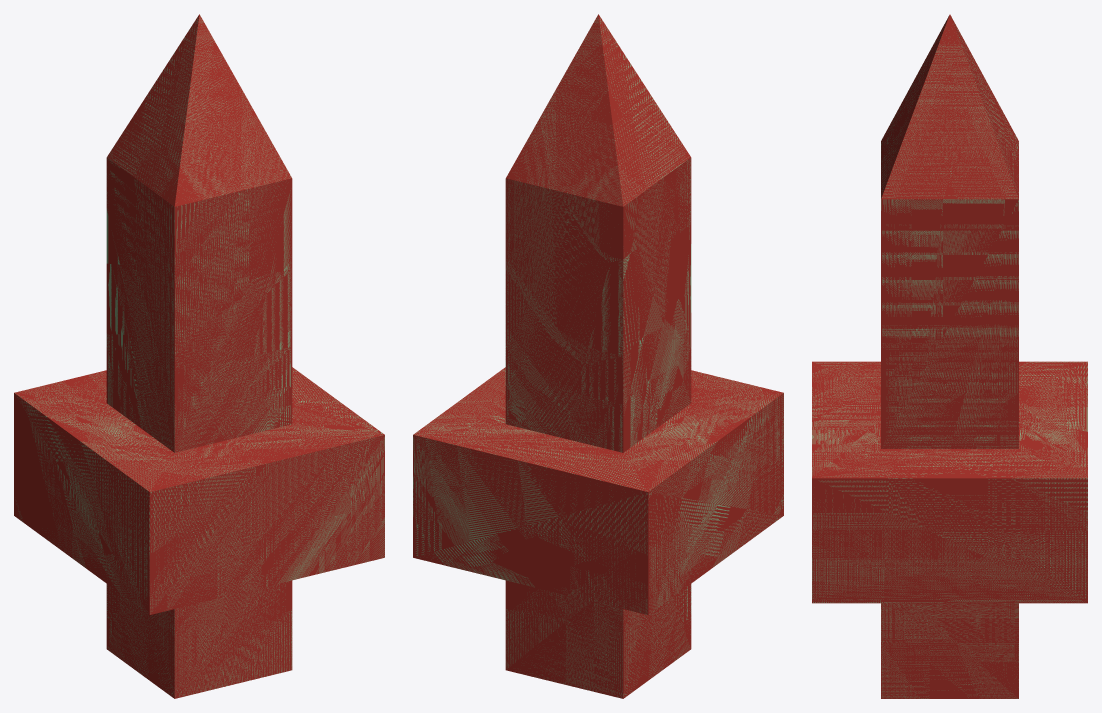
The model's file is rocket.dae.
3 views of the same model, side by side, from view 1: azimuth 30°, elevation 25°; view 2: azimuth 150°, elevation 25°; view 3: azimuth 270°, elevation 25° (orthographic).
Visible parts, largest first — view 1: SketchUp (×3); view 2: SketchUp (×3); view 3: SketchUp (×3).
Part boxes in pixels (box(x1,y1,x2,y2)): SketchUp (×3): box(14, 14, 384, 698); SketchUp (×3): box(413, 14, 783, 698); SketchUp (×3): box(812, 14, 1087, 698).
Bounding box in the file's own units: 78.74 × 78.74 × 207.
